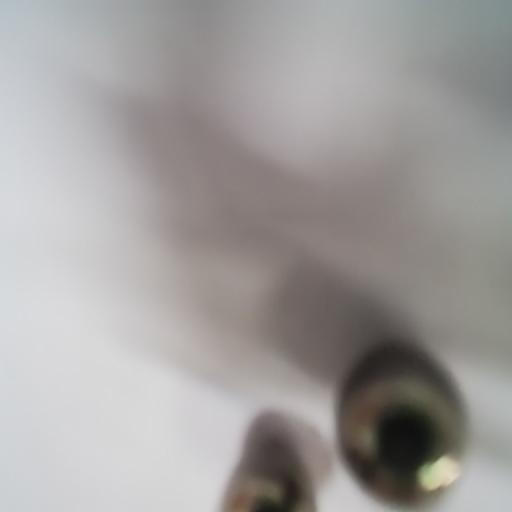steel-ball: (340, 340, 468, 502)
